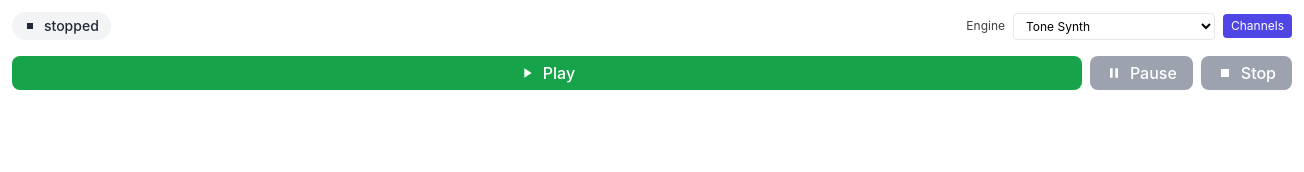
it: PlaybackControls › play/pause/stop state progression
Expected: the element named "playback-status" reads "stopped", [44,17,99,34]
Click the button "Play".
click(547, 73)  # box [12,56,1082,90]
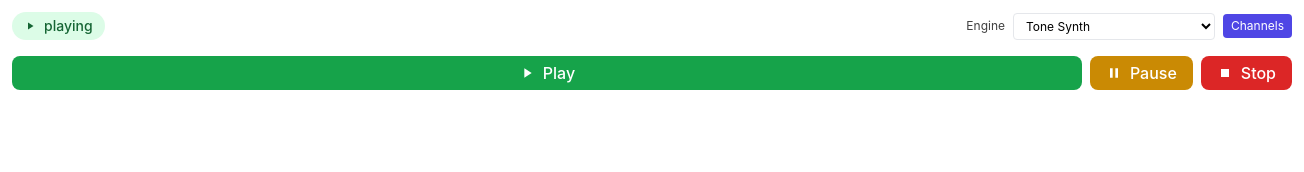
Now the element named "playback-status" reads "playing", box [44,17,93,34]
Click the button "Pause".
click(1141, 73)  # box [1090,56,1193,90]
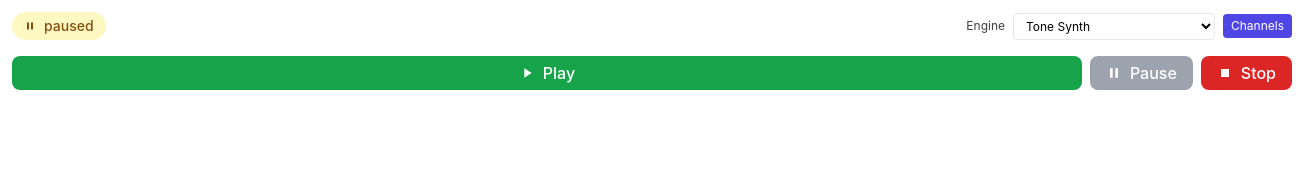
Now the element named "playback-status" reads "paused", box [44,17,94,34]
Click the button "Stop".
click(1246, 73)  # box [1201,56,1292,90]
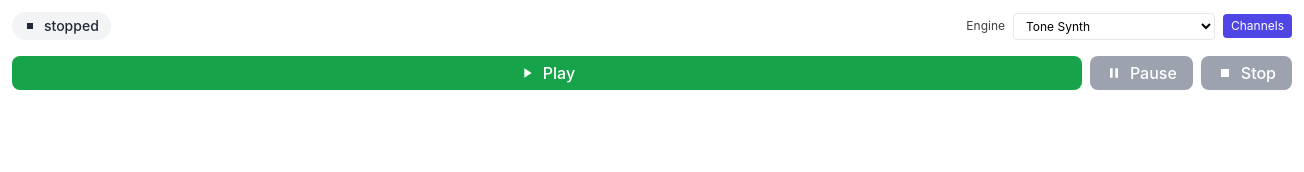
Now the element named "playback-status" reads "stopped", box [44,17,99,34]
